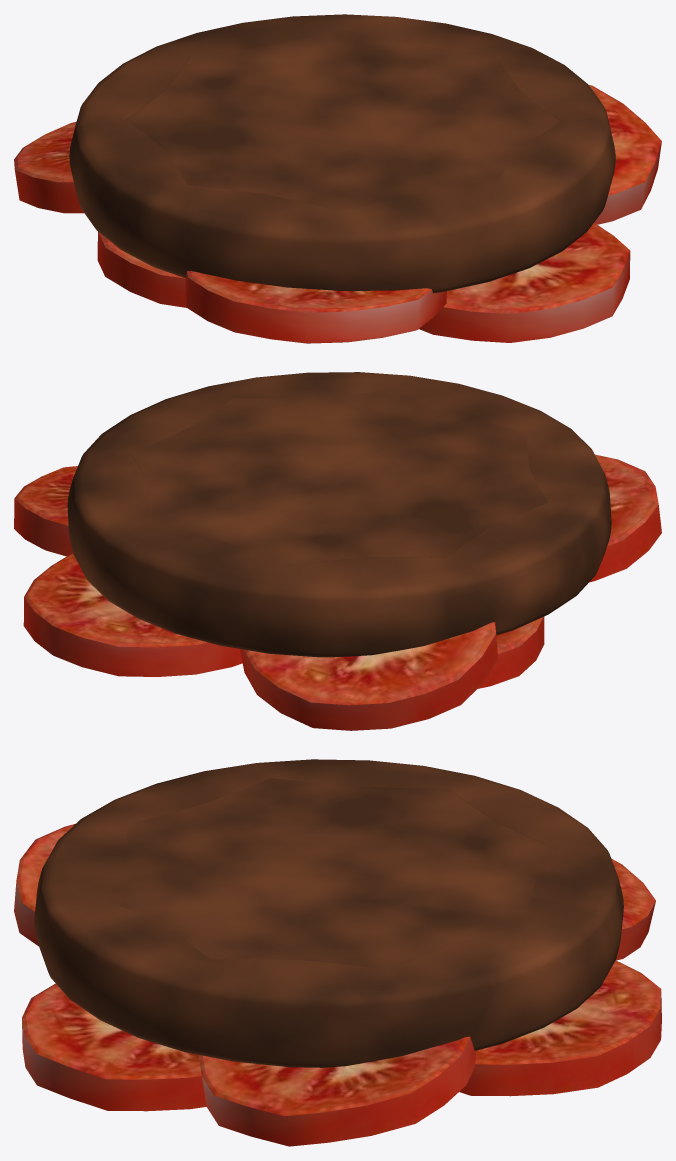
The model's file is tomato-meat.glb.
3 views of the same model, one above another, from view 1: azimuth 30°, elevation 25°; view 2: azimuth 150°, elevation 25°; view 3: azimuth 270°, elevation 25° (orthographic). The views are drawn at different scales.
Visible parts, largest first — view 1: object 1, pCylinder19_9; view 2: object 1, pCylinder19_9; view 3: object 1, pCylinder19_9.
Boxes of the visible parts, x1,y1,x2,y2 form: object 1: (69, 14, 615, 293); pCylinder19_9: (14, 85, 661, 343); object 1: (67, 372, 611, 657); pCylinder19_9: (14, 454, 661, 730); object 1: (34, 759, 623, 1067); pCylinder19_9: (14, 823, 661, 1146).
Size of the model in its own units: 1.01 by 0.2396 by 0.9781.
Materials: 3 (3 with a texture image).
